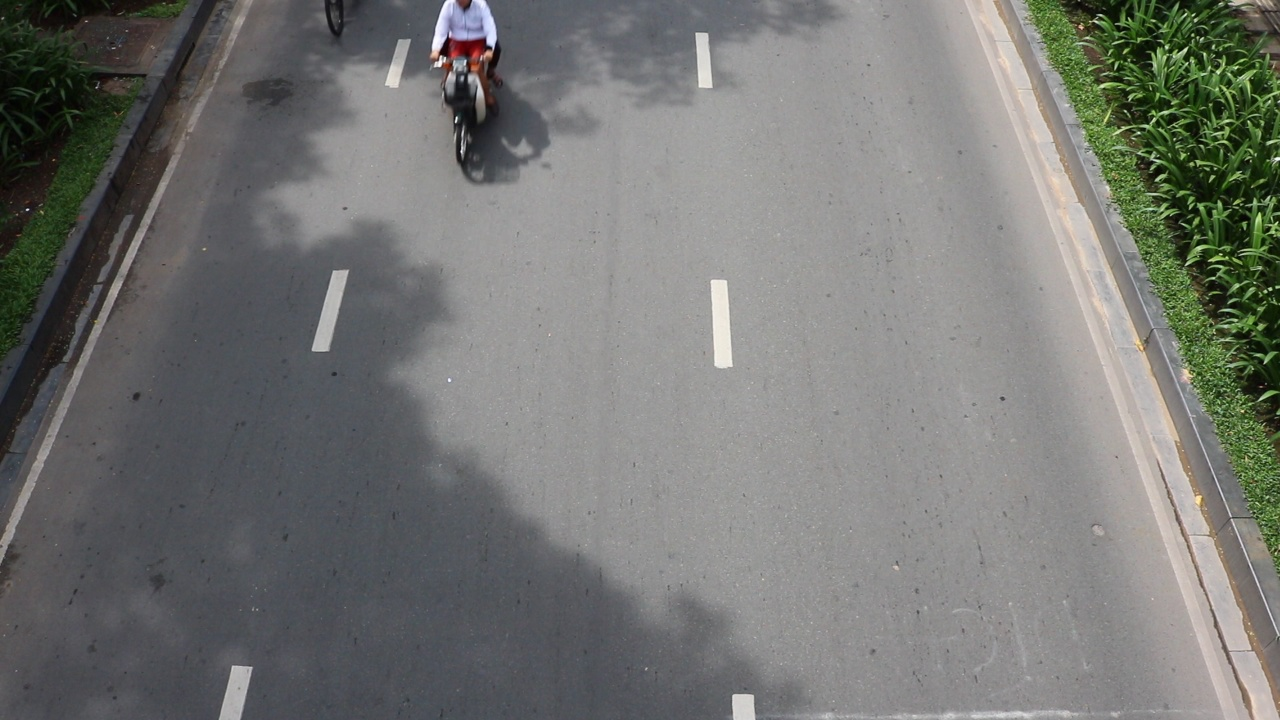motorcycle: (433, 54, 492, 170)
